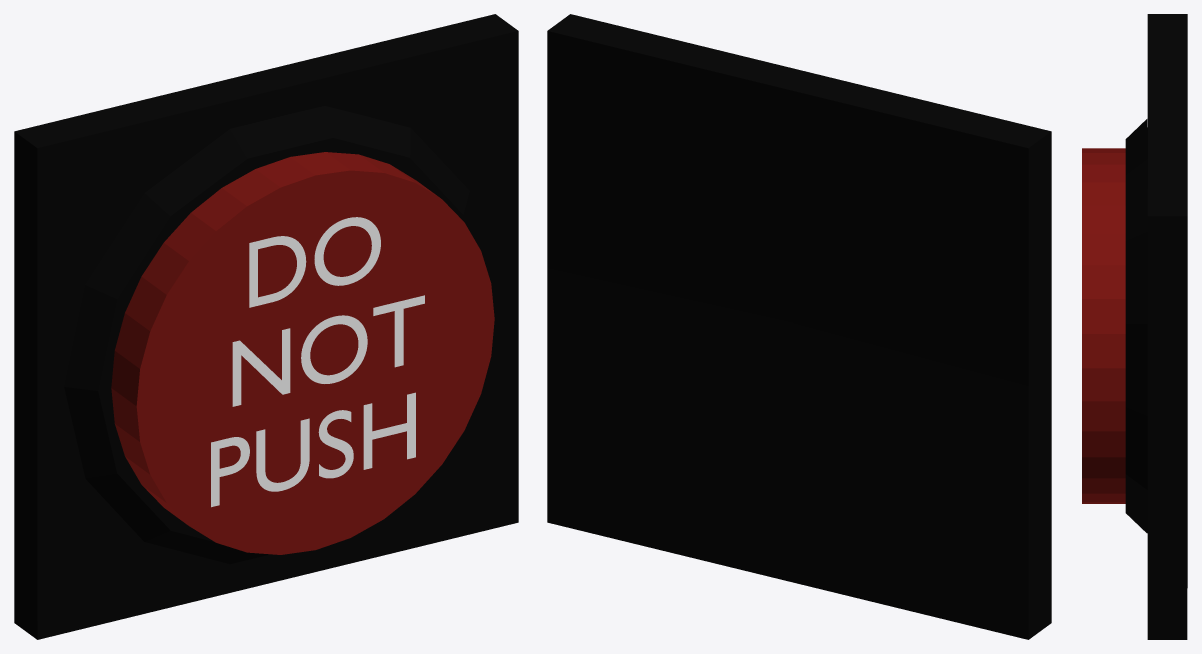
The model's file is button.glb.
3 renders of one model, left to right at view 1: azimuth 30°, elevation 25°; view 2: azimuth 150°, elevation 25°; view 3: azimuth 270°, elevation 25°, orthographic. The views are drawn at different scales.
Visible parts, largest first — view 1: Cylinder, Text; view 2: Cylinder; view 3: Cylinder.
Boxes of the visible parts, <box> form: Cylinder: <box>14,14,518,639</box>; Text: <box>211,217,424,507</box>; Cylinder: <box>547,14,1051,639</box>; Cylinder: <box>1082,14,1187,639</box>.
Size of the model in its own units: 0.5199 by 0.5077 by 0.1164.
